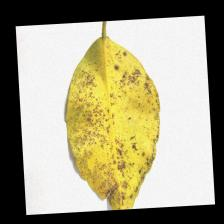canker: (64, 66, 158, 172)
